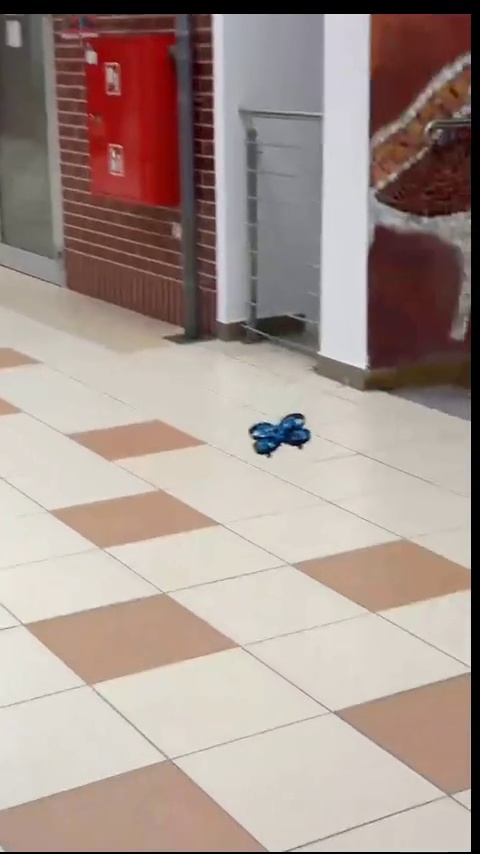drone: (249, 418, 312, 461)
